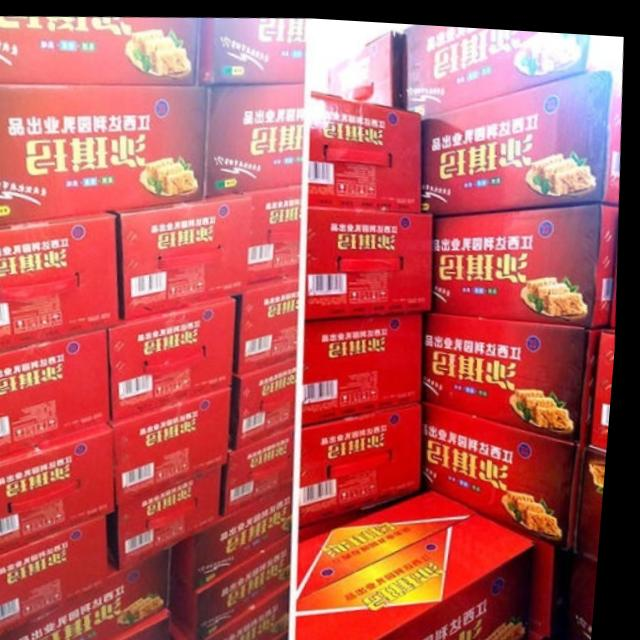box: (308, 484, 544, 640), (0, 81, 210, 225), (423, 60, 623, 209), (427, 394, 593, 544), (427, 306, 607, 440), (433, 194, 621, 320), (437, 484, 578, 638), (401, 19, 624, 108), (110, 190, 252, 320), (0, 420, 125, 561), (0, 209, 123, 352), (0, 544, 180, 640), (308, 394, 437, 525), (0, 324, 119, 465), (111, 294, 241, 420), (0, 513, 118, 638), (310, 305, 433, 424), (310, 202, 435, 317), (119, 384, 238, 502), (312, 86, 424, 209), (115, 462, 234, 575), (178, 479, 300, 589), (0, 16, 200, 83), (180, 530, 299, 640), (207, 78, 306, 195), (197, 16, 306, 82), (242, 180, 304, 293), (232, 424, 301, 515), (235, 355, 301, 450), (238, 279, 302, 375), (327, 25, 404, 104), (209, 581, 299, 640), (578, 440, 613, 556), (568, 544, 606, 640), (593, 319, 619, 445), (110, 604, 181, 640), (278, 626, 298, 640)
